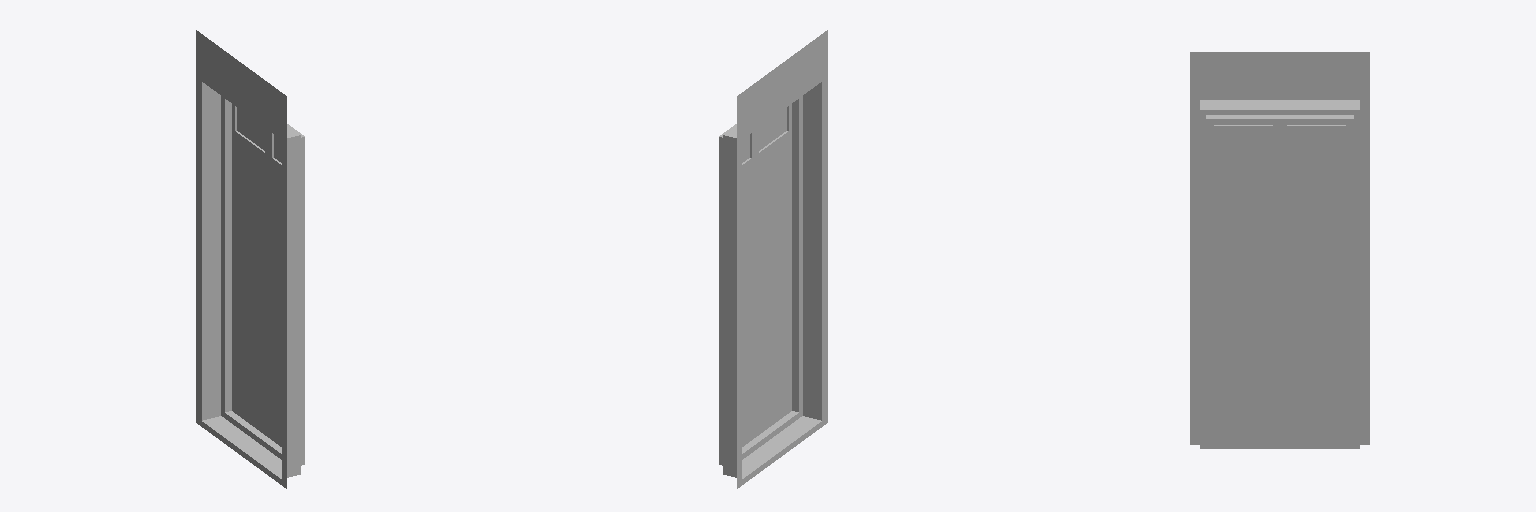
File: Door_2.obj
The picture shows the model from 3 angles: view 1: azimuth 30°, elevation 25°; view 2: azimuth 150°, elevation 25°; view 3: azimuth 270°, elevation 25°; orthographic projection.
Parts seen in each view (by area): view 1: Door4; view 2: Door4; view 3: Door4.
Part boxes in pixels (bbox=[...]): Door4: bbox=[196, 30, 304, 488]; Door4: bbox=[719, 30, 827, 488]; Door4: bbox=[1190, 52, 1369, 448].
Size of the model in its own units: 0.2312 by 3 by 1.25.